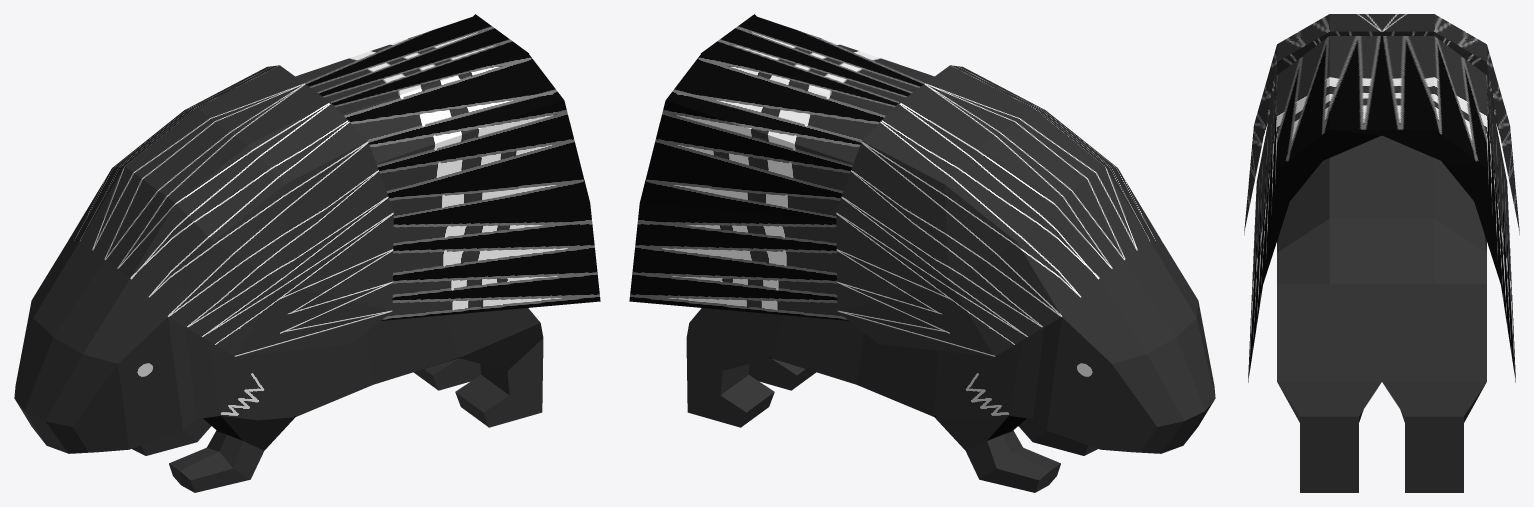
Rendered from Porcupine.fbx.
3 views of the same model, side by side, from view 1: azimuth 30°, elevation 25°; view 2: azimuth 150°, elevation 25°; view 3: azimuth 270°, elevation 25° (orthographic). The views are drawn at different scales.
Visible parts, largest first — view 1: Cube.001, Cube, Cube.002; view 2: Cube.001, Cube, Cube.002; view 3: Cube, Cube.002, Cube.001.
Boxes of the visible parts, bbox=[...] form: Cube.001: bbox=[67, 65, 393, 356]; Cube: bbox=[14, 241, 543, 492]; Cube.002: bbox=[295, 14, 600, 320]; Cube.001: bbox=[836, 65, 1162, 356]; Cube: bbox=[686, 241, 1215, 492]; Cube.002: bbox=[629, 14, 934, 320]; Cube: bbox=[1277, 136, 1486, 492]; Cube.002: bbox=[1248, 36, 1515, 382]; Cube.001: bbox=[1244, 14, 1519, 234].
Size of the model in its own units: 183 by 120 by 82.3.
3 materials, 3 textured.
